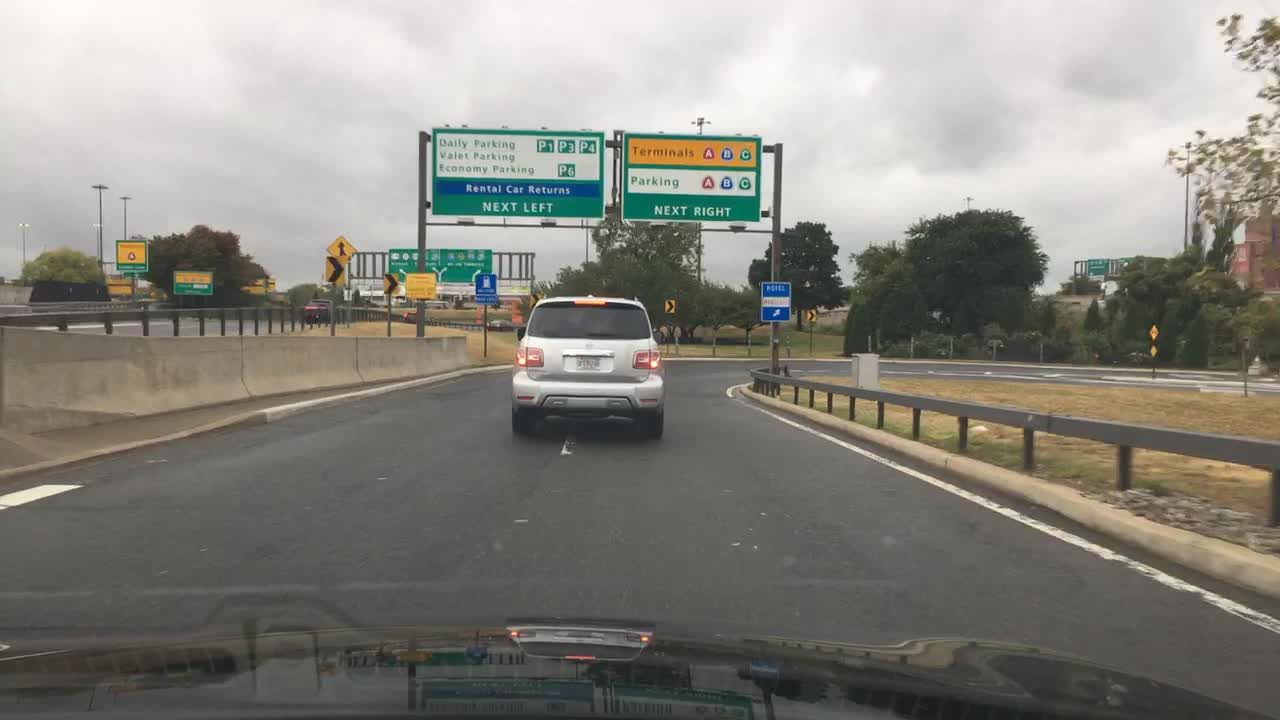car: (508, 292, 666, 440), (304, 297, 334, 326), (489, 315, 514, 332), (402, 309, 419, 323)
traffic sign: (429, 123, 605, 222), (621, 131, 760, 224), (386, 247, 494, 296), (758, 282, 791, 323), (114, 238, 149, 275), (173, 269, 216, 296), (405, 273, 439, 298), (325, 238, 359, 262), (472, 273, 497, 301), (325, 255, 349, 284), (1086, 259, 1110, 282), (381, 272, 400, 296), (1117, 256, 1139, 271), (662, 298, 677, 314), (805, 309, 817, 324), (1148, 324, 1158, 341), (1148, 342, 1157, 359)
